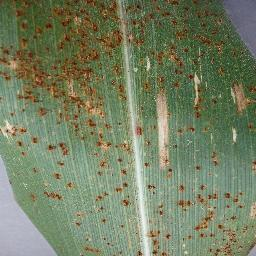Gray_Leaf_Spot: (0, 0, 233, 76), (0, 77, 129, 144), (91, 144, 134, 232), (31, 139, 75, 202), (176, 182, 219, 237), (220, 190, 247, 256), (155, 92, 174, 171), (82, 236, 142, 256), (148, 206, 170, 256), (226, 80, 256, 115), (190, 77, 206, 119), (142, 78, 182, 94), (134, 122, 152, 147), (248, 201, 256, 256), (176, 126, 212, 137), (229, 123, 241, 145), (18, 142, 32, 160), (234, 46, 249, 60), (210, 149, 221, 167), (205, 242, 219, 256), (74, 208, 84, 226), (149, 180, 159, 194), (249, 158, 256, 173), (211, 94, 219, 107), (142, 158, 152, 168), (164, 170, 174, 180), (195, 163, 204, 172), (248, 122, 256, 131), (138, 106, 146, 115), (174, 144, 180, 150)
